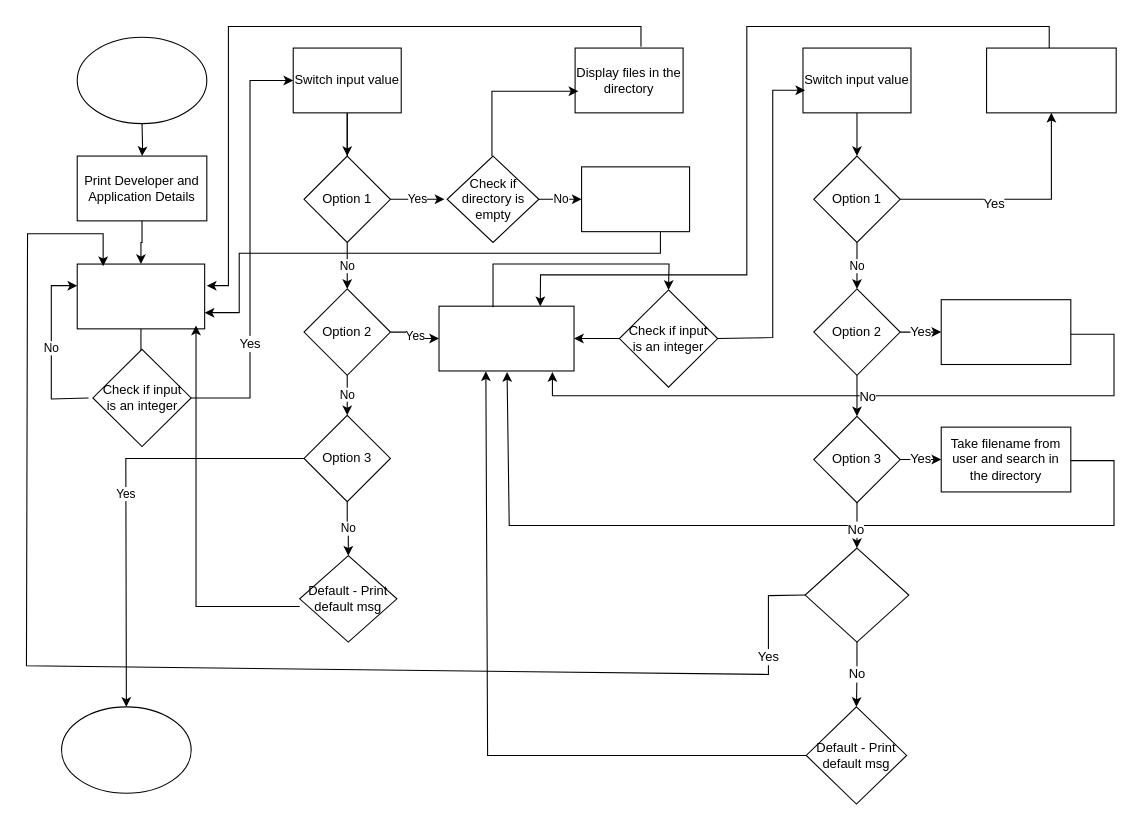
The diagram is 1142 pixels wide and 823 high, and some of its shapes have lost their labels. The centre of each missing label's shape, as x and y in pixels:
"Display second level menu and take user input" belongs at (506,338).
"Exit Program" belongs at (125,749).
"Option 4" belongs at (856,594).
"Print empty directory msg" belongs at (635,199).
"Print main menu, creates a directory and take user input" belongs at (140,296).
"Start" belongs at (141,80).
"Take filename from user and add to directory" belongs at (1051,80).
"Take filename from user and delete file from directory" belongs at (1005,331).
